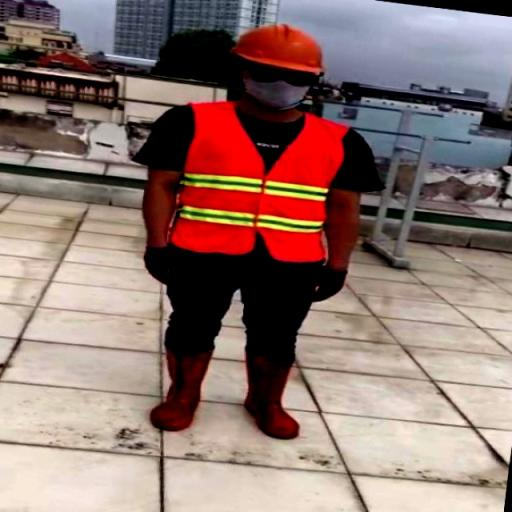Person: (126, 18, 368, 476)
boots: (236, 344, 306, 445), (143, 340, 218, 434)
gloves: (136, 239, 188, 294), (310, 263, 352, 308)
goggles: (239, 61, 322, 88)
helmet: (231, 22, 335, 75)
vest: (176, 98, 352, 270)
